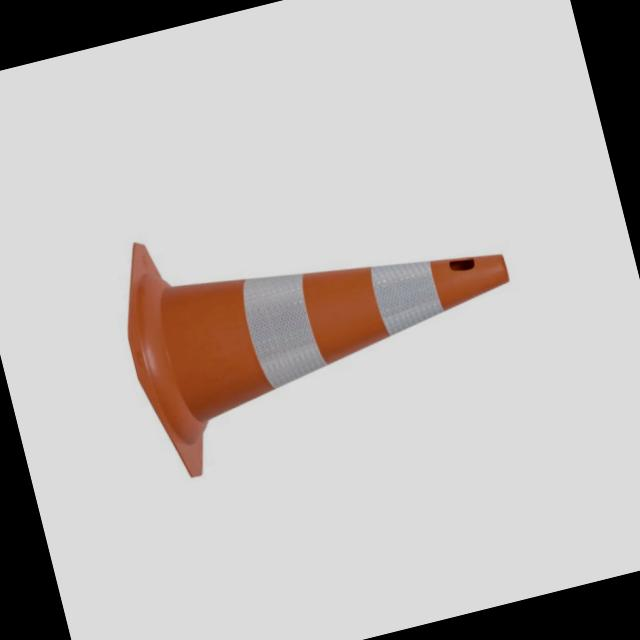cone: (100, 164, 554, 482)
